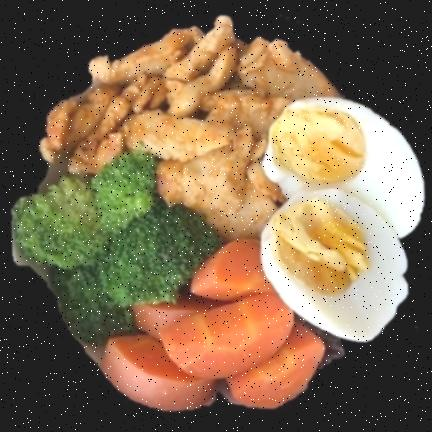broccoli: (10, 147, 226, 344)
carrot: (103, 240, 326, 411)
chicken: (40, 18, 343, 240)
egg: (260, 97, 423, 338)
